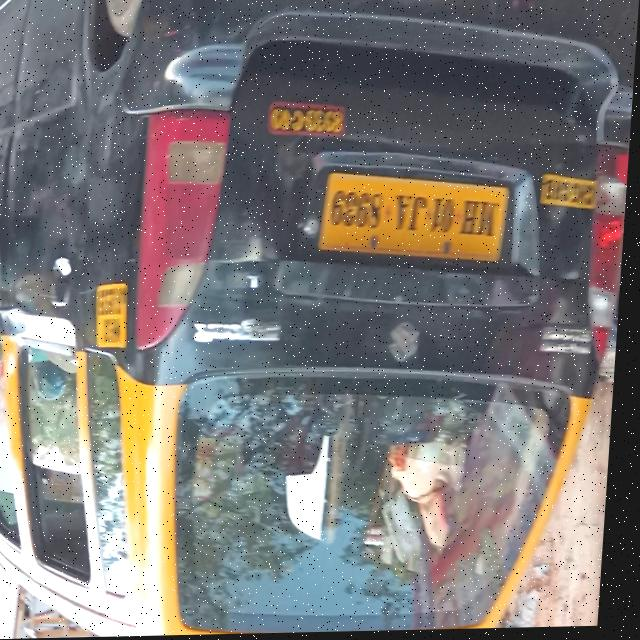plate: (320, 170, 515, 271)
